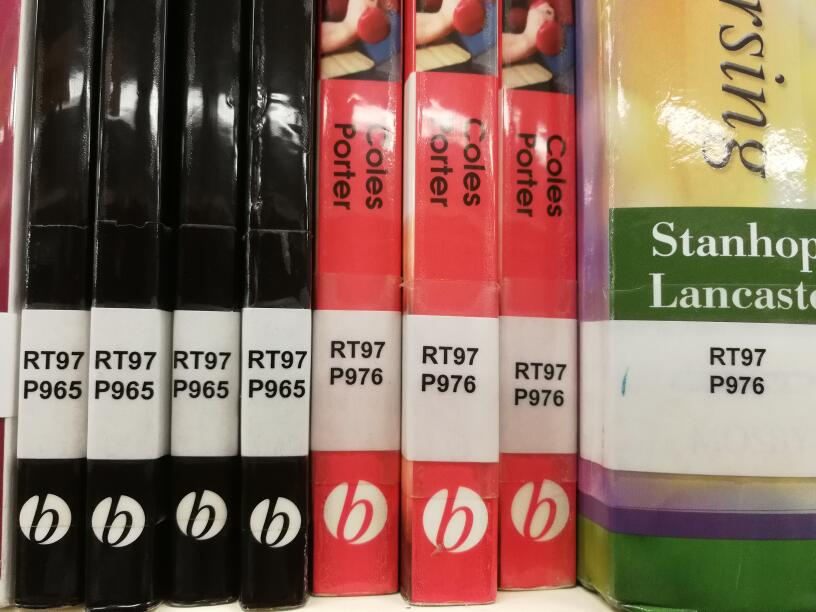booklabel: (91, 347, 159, 403), (20, 347, 85, 401), (418, 342, 483, 394), (706, 343, 768, 397), (246, 347, 309, 400), (170, 347, 231, 400), (326, 337, 389, 388), (510, 358, 569, 408)
